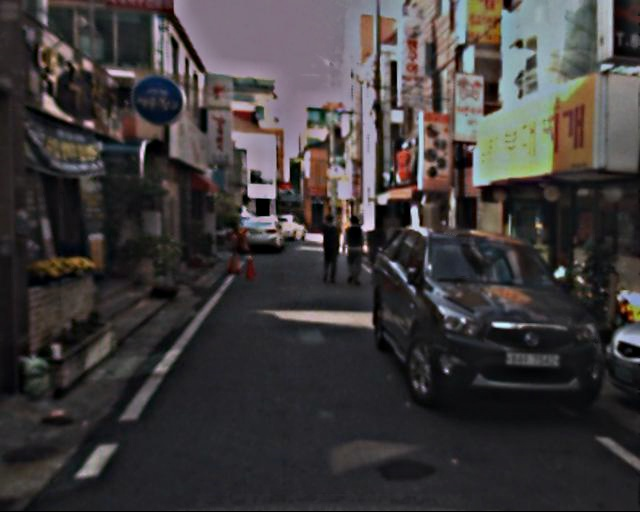person: (338, 214, 368, 288), (314, 214, 343, 285), (362, 215, 391, 286)
